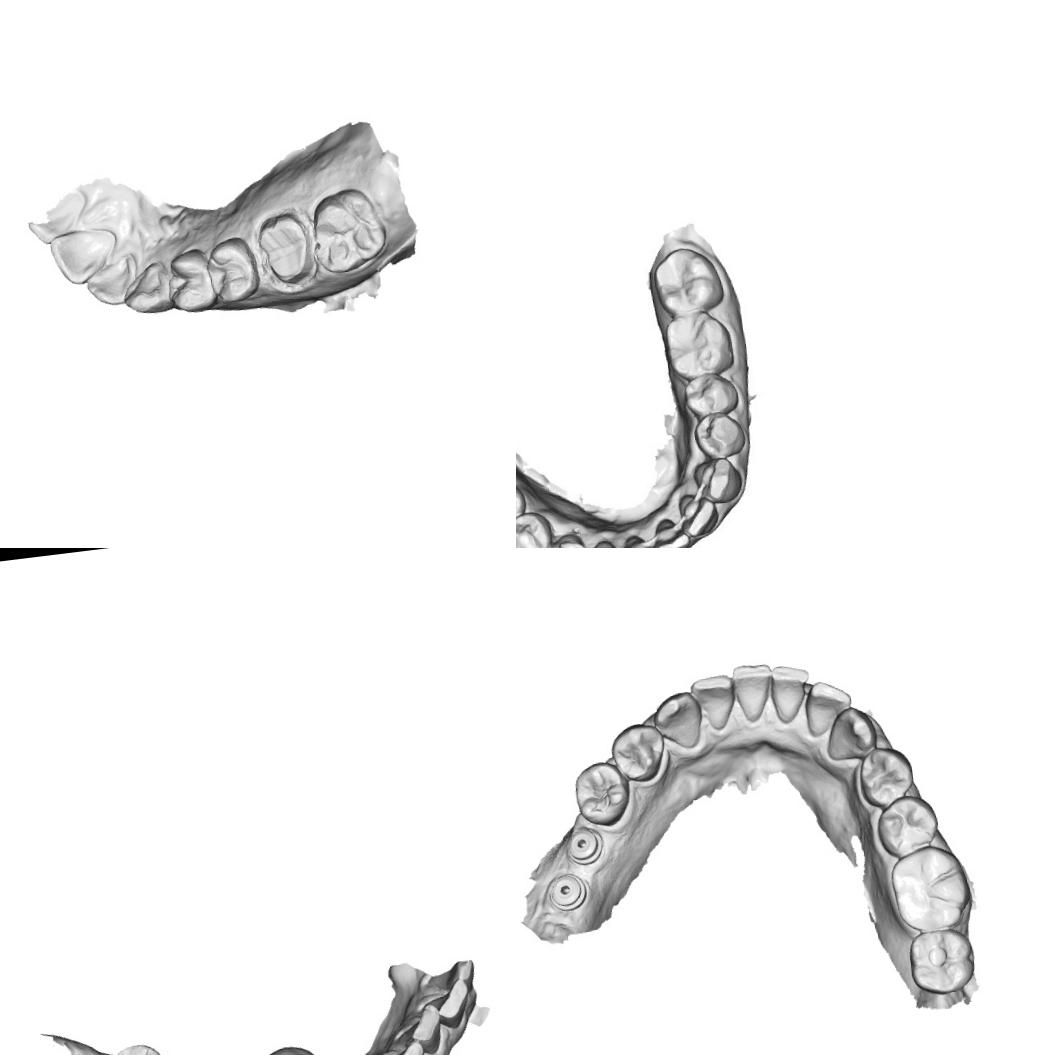canine: (820, 702, 882, 767), (117, 257, 176, 322), (650, 688, 706, 754), (688, 453, 744, 506), (542, 535, 591, 548)
crown: (253, 207, 318, 290)
implant: (544, 869, 592, 914), (562, 825, 606, 869)
incisor: (44, 222, 126, 290), (78, 250, 141, 312), (686, 670, 744, 736), (800, 676, 858, 740), (767, 660, 816, 728), (730, 660, 780, 726), (424, 977, 476, 1030), (396, 1000, 446, 1055), (424, 958, 480, 991), (678, 496, 716, 535), (653, 520, 694, 548), (384, 1038, 429, 1055), (625, 535, 658, 548)
molar: (886, 840, 977, 937), (304, 184, 390, 278), (902, 924, 982, 1001), (653, 247, 720, 314), (665, 312, 734, 375)
premolar: (872, 790, 943, 860), (852, 742, 919, 812), (569, 757, 634, 829), (605, 718, 670, 788), (204, 233, 260, 307), (167, 245, 222, 317), (685, 370, 740, 421), (698, 409, 750, 458), (516, 510, 553, 548)
